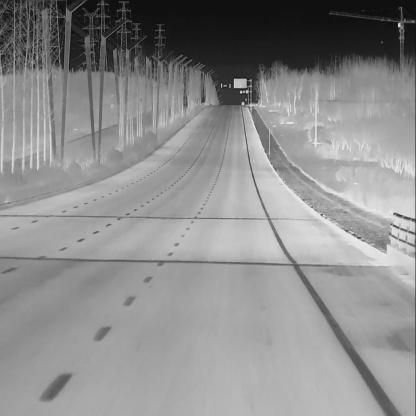car: (240, 100, 245, 106)
